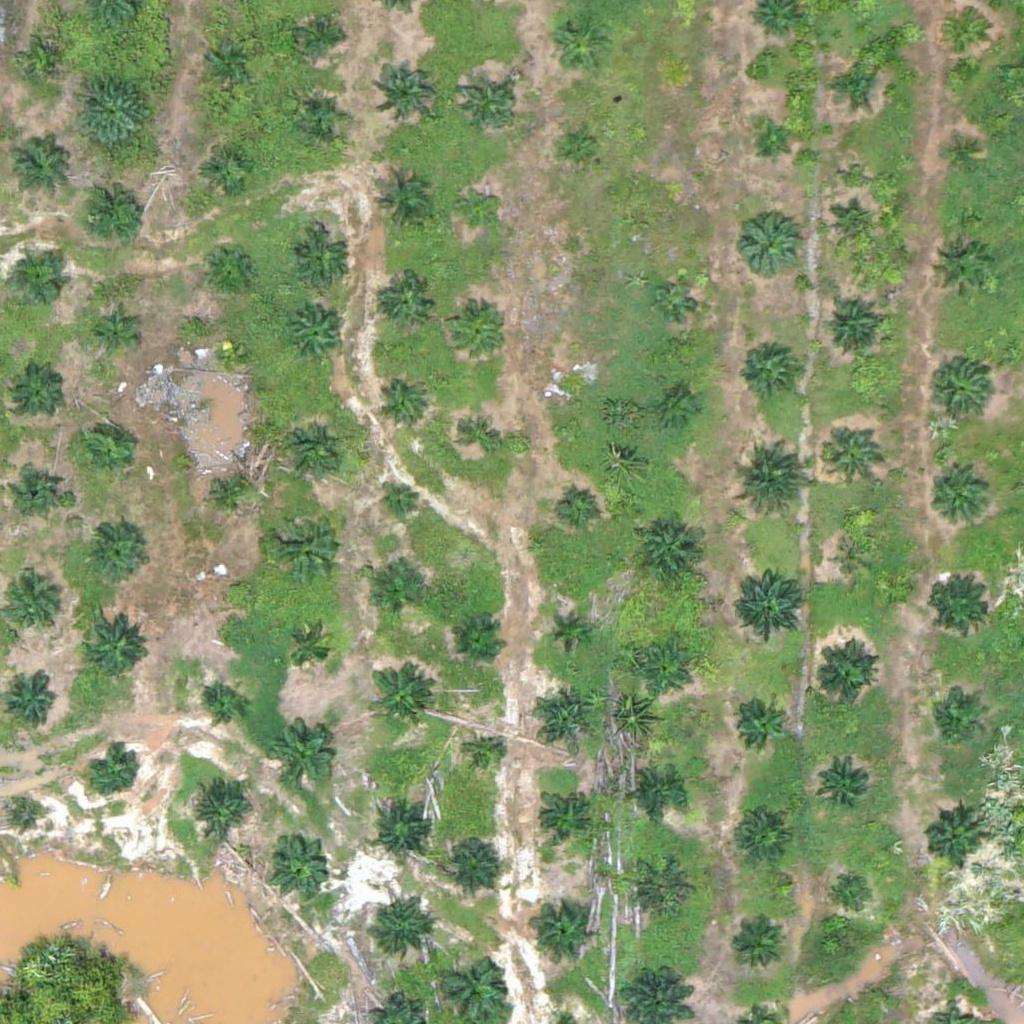Kelapa_Sawit: (76, 177, 151, 253), (271, 503, 346, 579), (76, 73, 151, 149), (730, 446, 805, 521), (732, 560, 807, 635), (531, 682, 594, 745), (268, 723, 331, 786), (736, 210, 799, 273), (5, 132, 68, 195), (547, 14, 610, 77), (290, 228, 353, 291), (812, 644, 875, 707), (817, 751, 880, 814), (365, 900, 428, 963), (264, 832, 327, 895), (532, 901, 595, 964), (923, 810, 986, 873), (367, 664, 429, 727), (84, 612, 146, 675), (635, 520, 697, 583), (737, 337, 799, 400), (2, 575, 64, 638), (282, 420, 344, 483), (370, 172, 432, 235), (457, 73, 519, 136), (373, 56, 435, 119), (81, 522, 143, 585), (820, 294, 882, 357), (930, 574, 992, 637), (930, 238, 992, 301), (928, 358, 990, 421), (932, 469, 994, 532), (822, 423, 884, 486), (631, 860, 693, 923), (187, 777, 249, 840), (287, 307, 349, 369), (372, 802, 434, 864), (439, 830, 501, 892), (637, 647, 687, 698), (732, 698, 782, 749), (825, 60, 875, 111), (736, 811, 786, 862), (829, 869, 879, 920), (632, 769, 682, 819), (6, 679, 56, 729), (87, 746, 137, 796), (13, 463, 63, 513), (16, 257, 66, 307), (12, 367, 62, 417), (202, 240, 252, 290), (201, 144, 251, 194), (383, 275, 433, 325), (453, 307, 503, 357), (366, 570, 416, 620), (79, 423, 129, 473), (931, 692, 981, 742), (731, 922, 781, 972), (536, 792, 586, 842), (452, 617, 502, 667), (283, 626, 333, 676), (198, 683, 248, 733), (206, 466, 256, 516), (826, 203, 876, 253), (295, 10, 345, 60), (297, 94, 347, 144), (203, 30, 253, 80), (378, 379, 428, 429), (94, 313, 132, 351), (468, 738, 506, 776), (381, 481, 419, 519), (947, 19, 985, 57), (946, 139, 984, 177), (458, 192, 496, 230), (556, 375, 594, 413), (462, 417, 500, 455), (661, 391, 698, 429), (836, 540, 873, 578), (547, 613, 584, 651), (561, 489, 599, 526), (753, 123, 790, 161), (561, 129, 598, 166), (656, 279, 693, 316), (34, 50, 59, 76), (12, 799, 37, 824), (215, 341, 240, 366), (222, 576, 247, 601)
